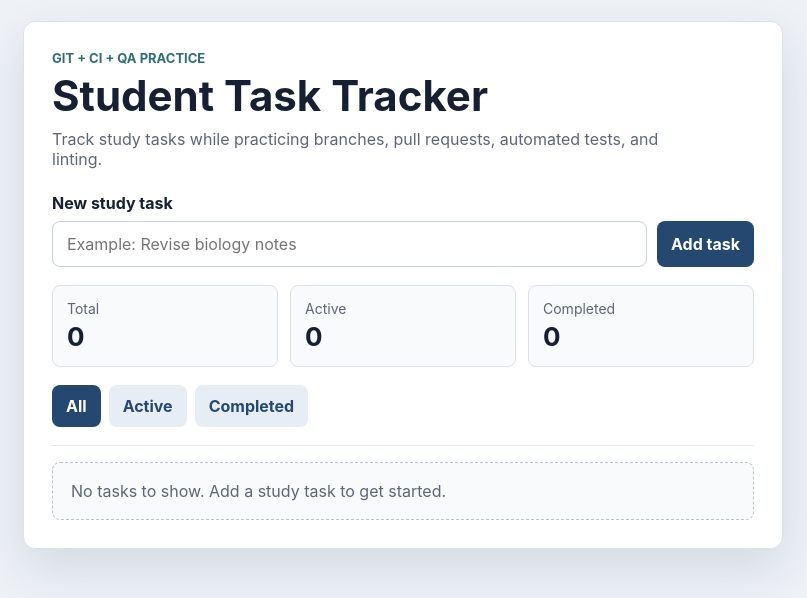
Test: Student Task Tracker › adds a task
In the field labelled "New study task": coordinates (350, 244) x1=52 y1=220 x2=647 y2=266, type "Revise chemistry"
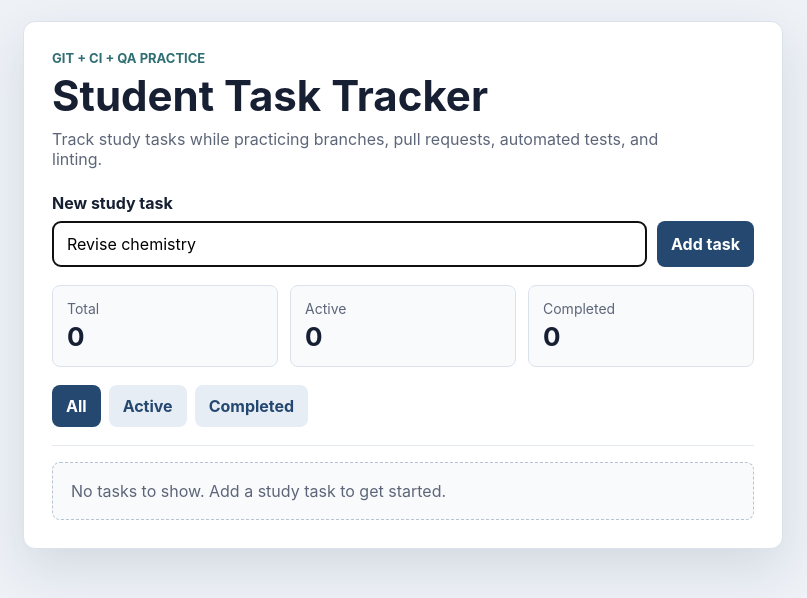
Click the button "Add task": coordinates (706, 244) x1=657 y1=220 x2=754 y2=266
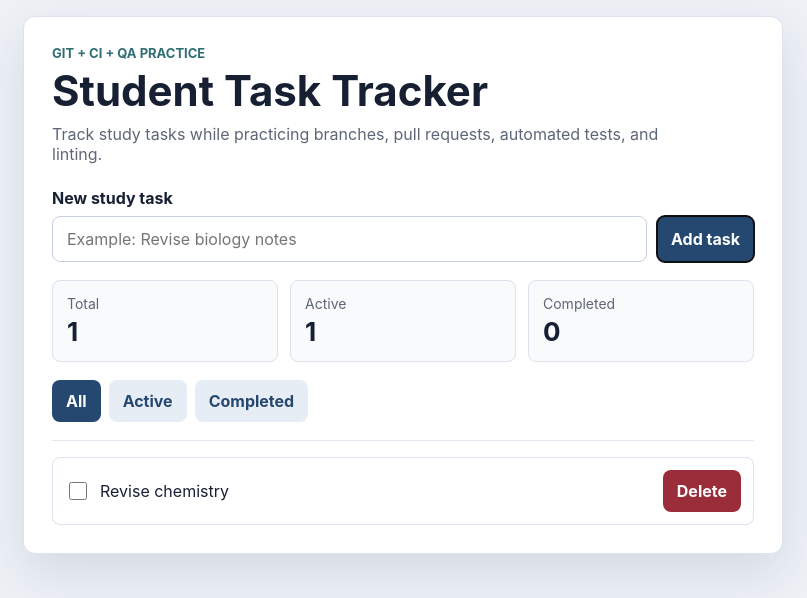
Now the text "Revise chemistry" is shown, box x1=100 y1=480 x2=229 y2=500
